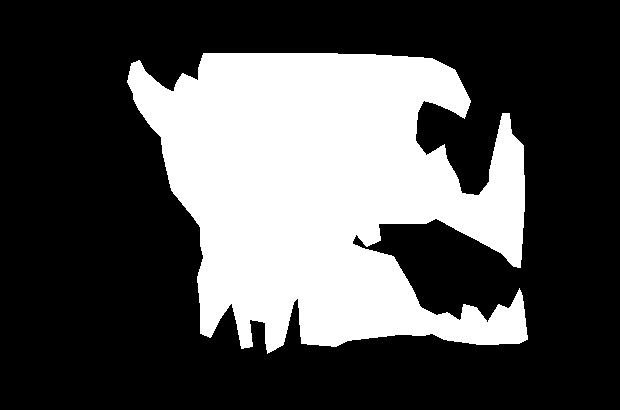type2: (127, 48, 530, 355)
